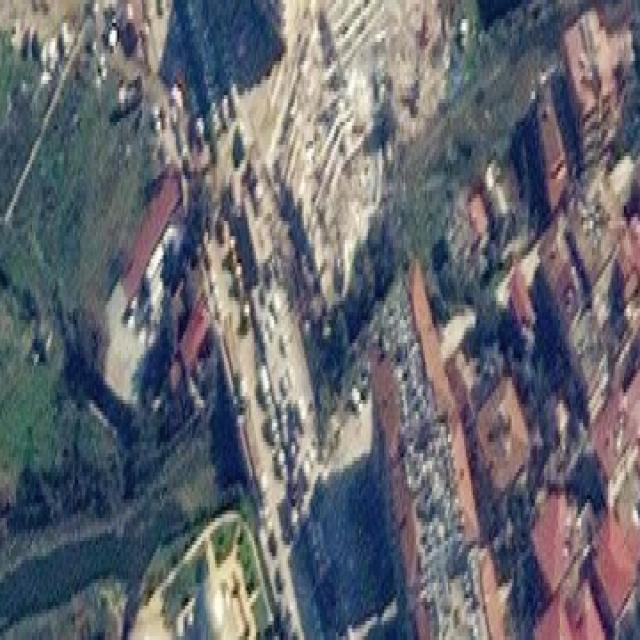Rubble: (282, 20, 379, 238), (176, 4, 275, 87), (388, 3, 438, 98)
